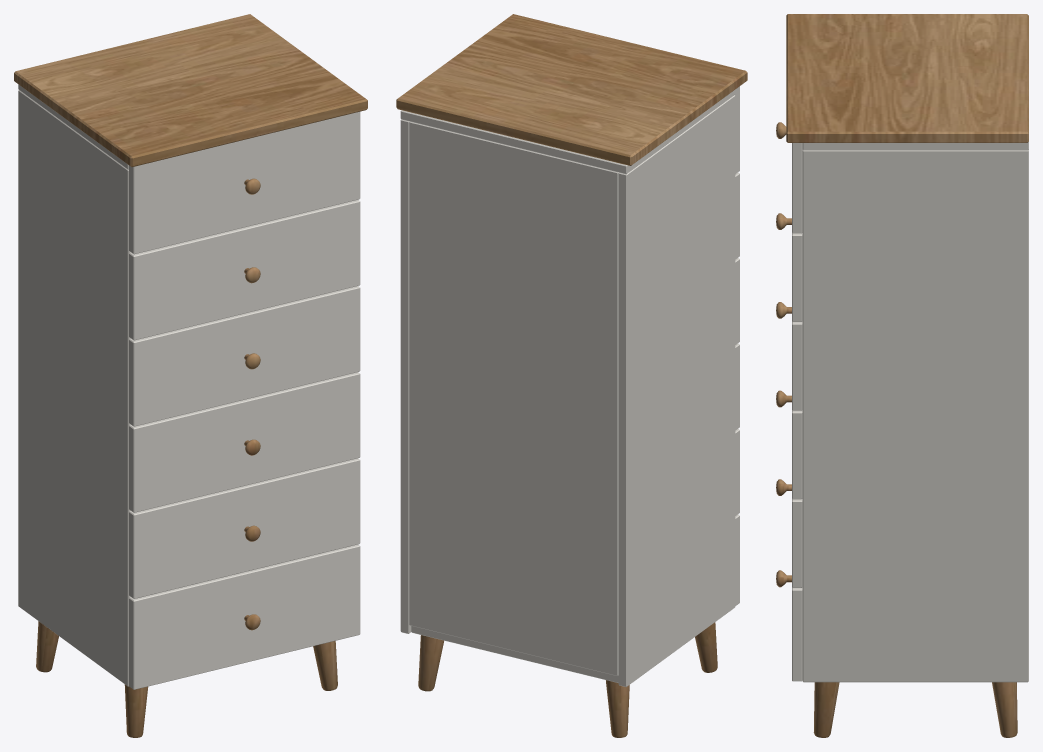
Rendered from sinfonier_50.glb.
The picture shows the model from 3 angles, left to right: view 1: azimuth 30°, elevation 25°; view 2: azimuth 150°, elevation 25°; view 3: azimuth 270°, elevation 25°; orthographic projection. The views are drawn at different scales.
Parts seen in each view (by area): view 1: sinfonier_50; view 2: sinfonier_50; view 3: sinfonier_50.
Boxes of the visible parts, x1,y1,x2,y2 form: sinfonier_50: (14, 14, 367, 737); sinfonier_50: (396, 14, 747, 737); sinfonier_50: (776, 14, 1028, 737).
Size of the model in its own units: 0.5 by 1.2 by 0.448.
2 materials, 1 textured.
